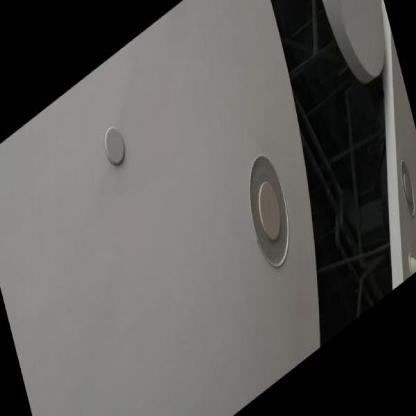light_off: (219, 115, 312, 312), (382, 138, 416, 234)
